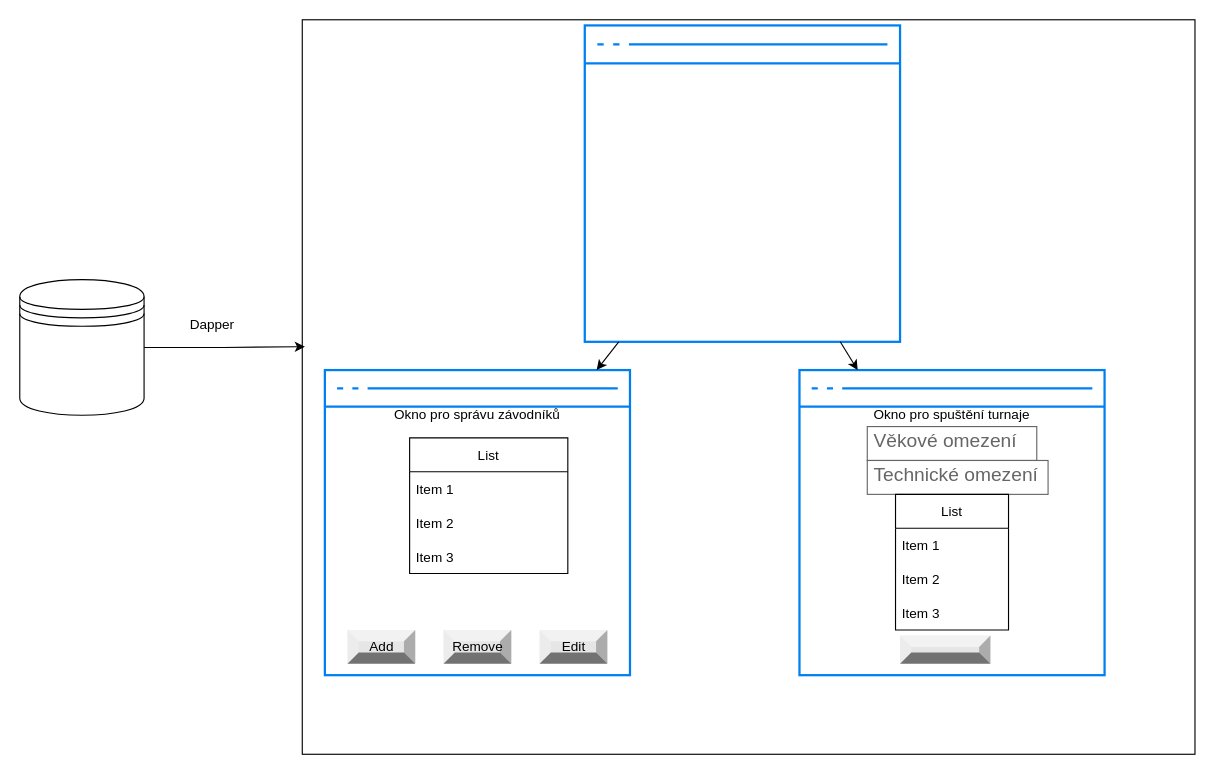
The diagram is 1215 pixels wide and 774 high, and some of its shapes have lost their labels. The shapes that lost their labels are listed below. From the top down, each one's centre as x and y in pixels, then its label:
pixel 742 183: Okno s pavoukem
pixel 81 347: SQLite
pixel 944 649: Spustit turnaj
